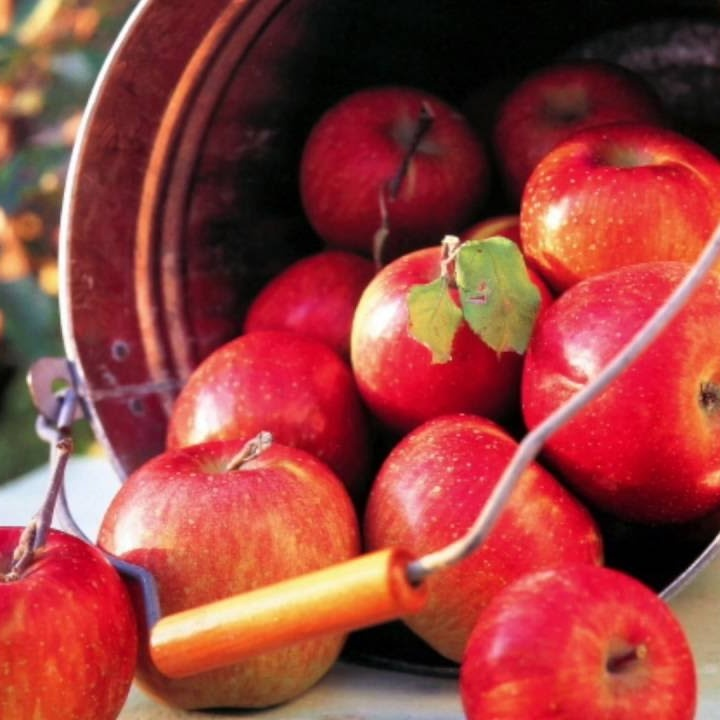apple: (91, 439, 353, 715), (367, 415, 608, 664), (519, 259, 720, 527), (517, 119, 720, 294), (165, 333, 360, 514), (293, 83, 490, 248), (348, 242, 521, 422), (1, 523, 132, 720), (490, 56, 661, 193), (245, 251, 377, 363)
